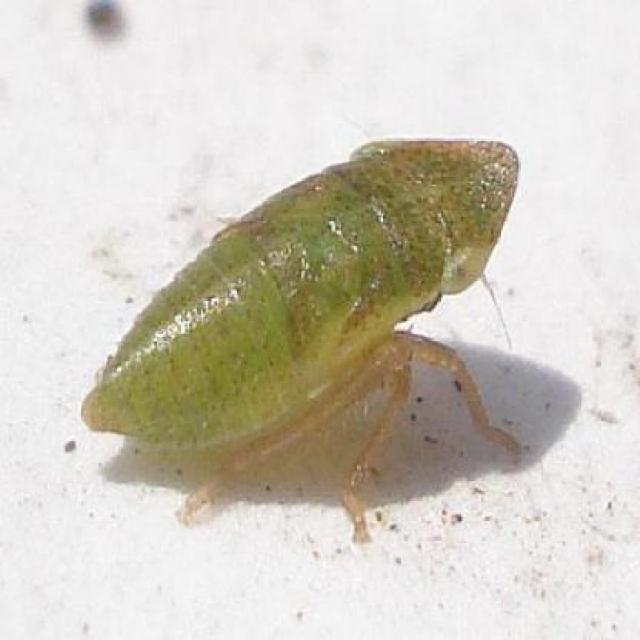green-leafhopper: (83, 126, 520, 525)
